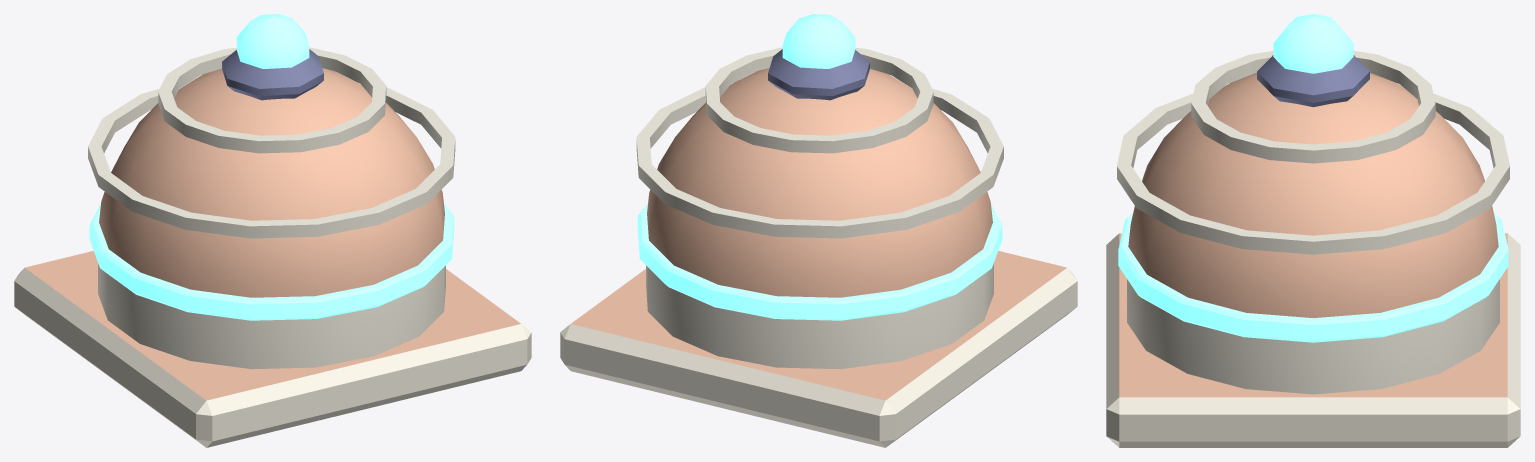
File: R4X_PersonalShield_LOD1.fbx
3 renders of one model, left to right at view 1: azimuth 30°, elevation 25°; view 2: azimuth 150°, elevation 25°; view 3: azimuth 270°, elevation 25°, orthographic. The views are drawn at different scales.
Parts seen in each view (by area): view 1: R4X_PersonalShield_LOD1; view 2: R4X_PersonalShield_LOD1; view 3: R4X_PersonalShield_LOD1.
Boxes of the visible parts, left/top/right/bottom form: R4X_PersonalShield_LOD1: left=14, top=14, right=531, bottom=447; R4X_PersonalShield_LOD1: left=560, top=14, right=1077, bottom=447; R4X_PersonalShield_LOD1: left=1106, top=14, right=1520, bottom=447.
Bounding box in the file's own units: 0.52 × 0.4831 × 0.52.
